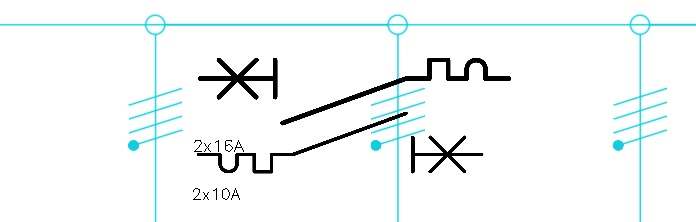interruptor_termomagnetico: (192, 52, 517, 131), (191, 106, 489, 179)
